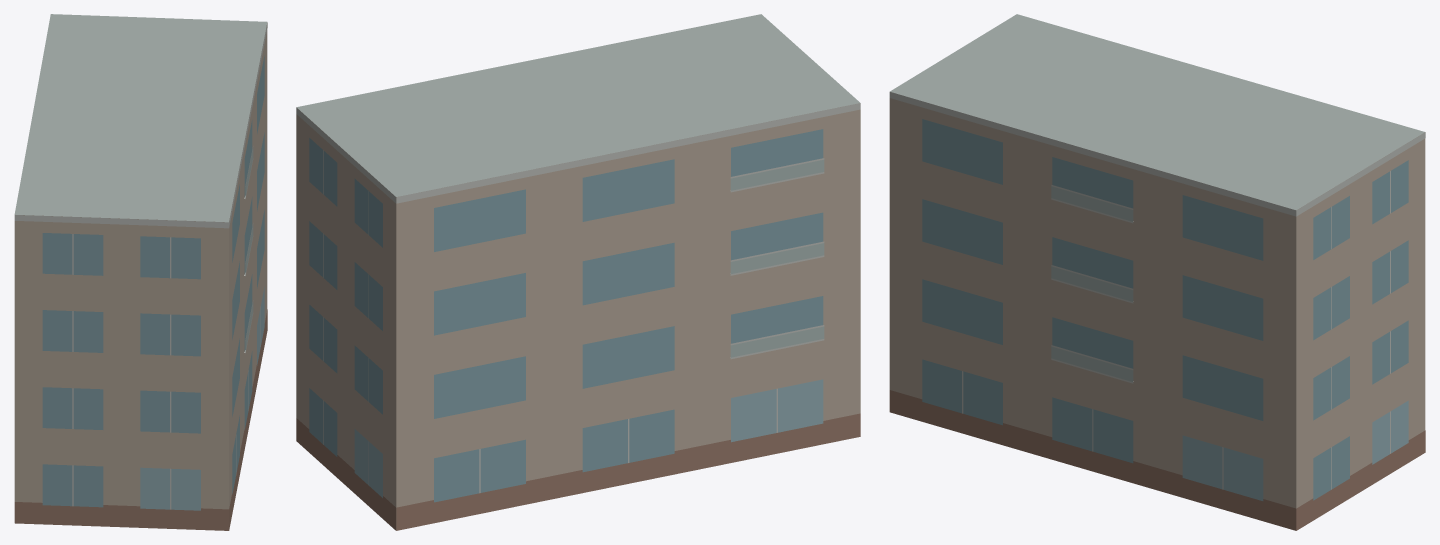
The model's file is survey-upis-32963019.glb.
The picture shows the model from 3 angles, left to right: view 1: azimuth 30°, elevation 25°; view 2: azimuth 150°, elevation 25°; view 3: azimuth 270°, elevation 25°; orthographic projection. The views are drawn at different scales.
Visible parts, largest first — view 1: survey-upis-32963019.tmp; view 2: survey-upis-32963019.tmp; view 3: survey-upis-32963019.tmp.
Part boxes in pixels (x1,y1,x2,y2): survey-upis-32963019.tmp: (14,14,267,530); survey-upis-32963019.tmp: (296,14,860,530); survey-upis-32963019.tmp: (889,14,1425,530).
Size of the model in its own units: 16.36 by 12.45 by 18.87.
